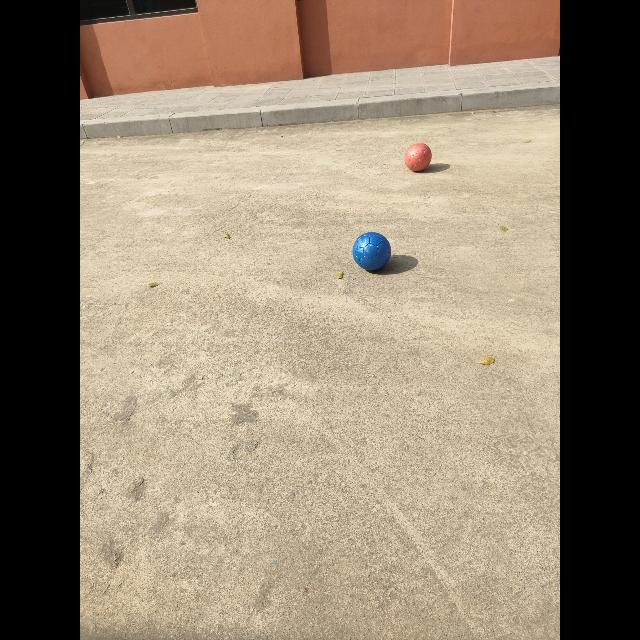B: (352, 232, 391, 271)
R: (404, 142, 431, 171)
